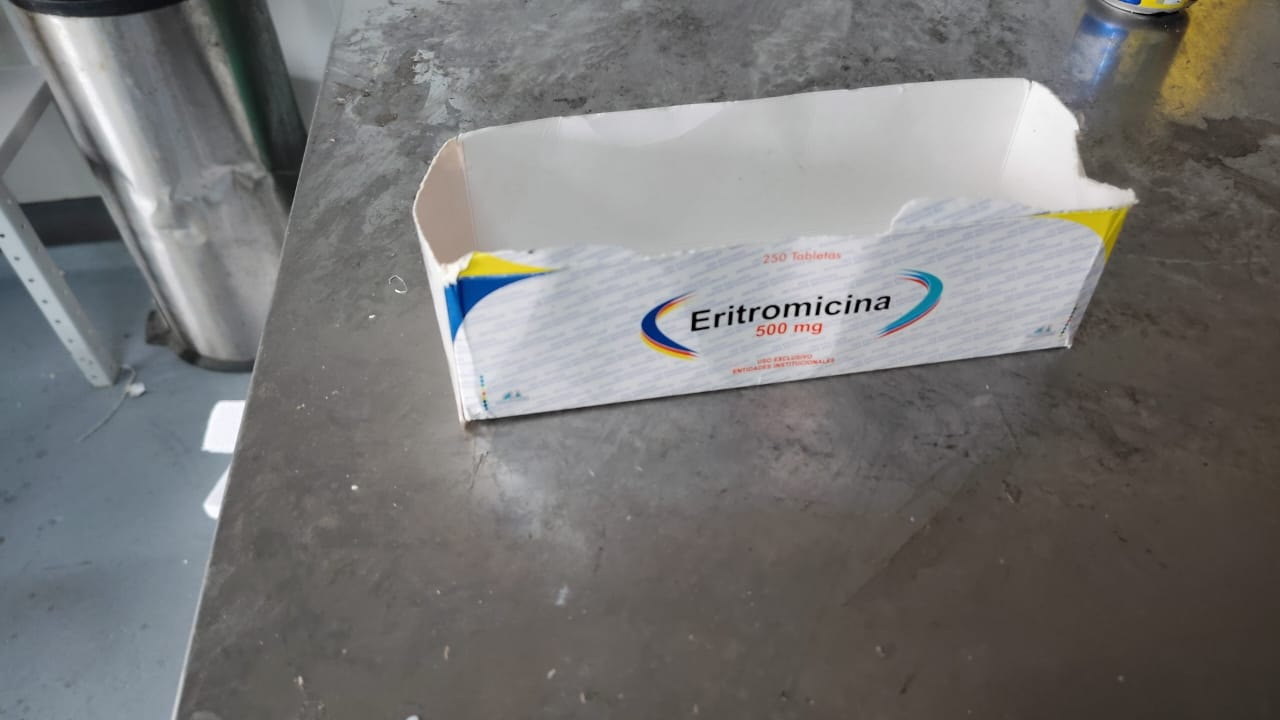Carton: (409, 74, 1135, 424)
